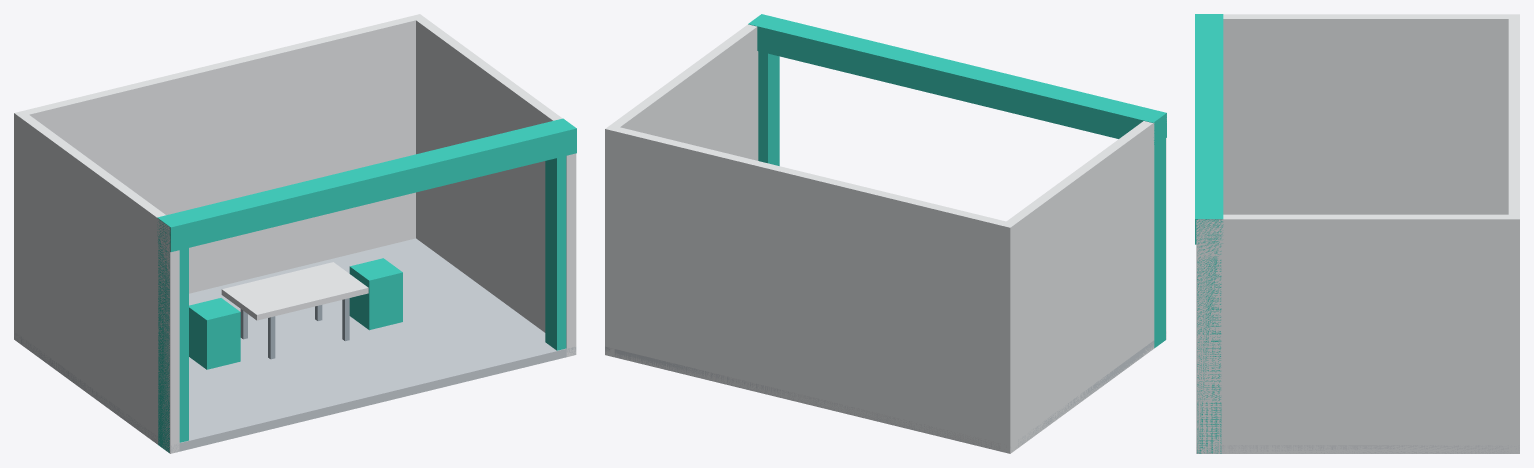
The picture shows the model from 3 angles, left to right: view 1: azimuth 30°, elevation 25°; view 2: azimuth 150°, elevation 25°; view 3: azimuth 270°, elevation 25°; orthographic projection. The views are drawn at different scales.
Parts seen in each view (by area): view 1: Exhibition Booth Concept; view 2: Exhibition Booth Concept; view 3: Exhibition Booth Concept.
Part boxes in pixels (box(x1,y1,x2,y2)): Exhibition Booth Concept: box(14, 14, 576, 453); Exhibition Booth Concept: box(605, 14, 1166, 453); Exhibition Booth Concept: box(1195, 14, 1519, 453).
Size of the model in its own units: 6 by 3.2 by 4.02.
